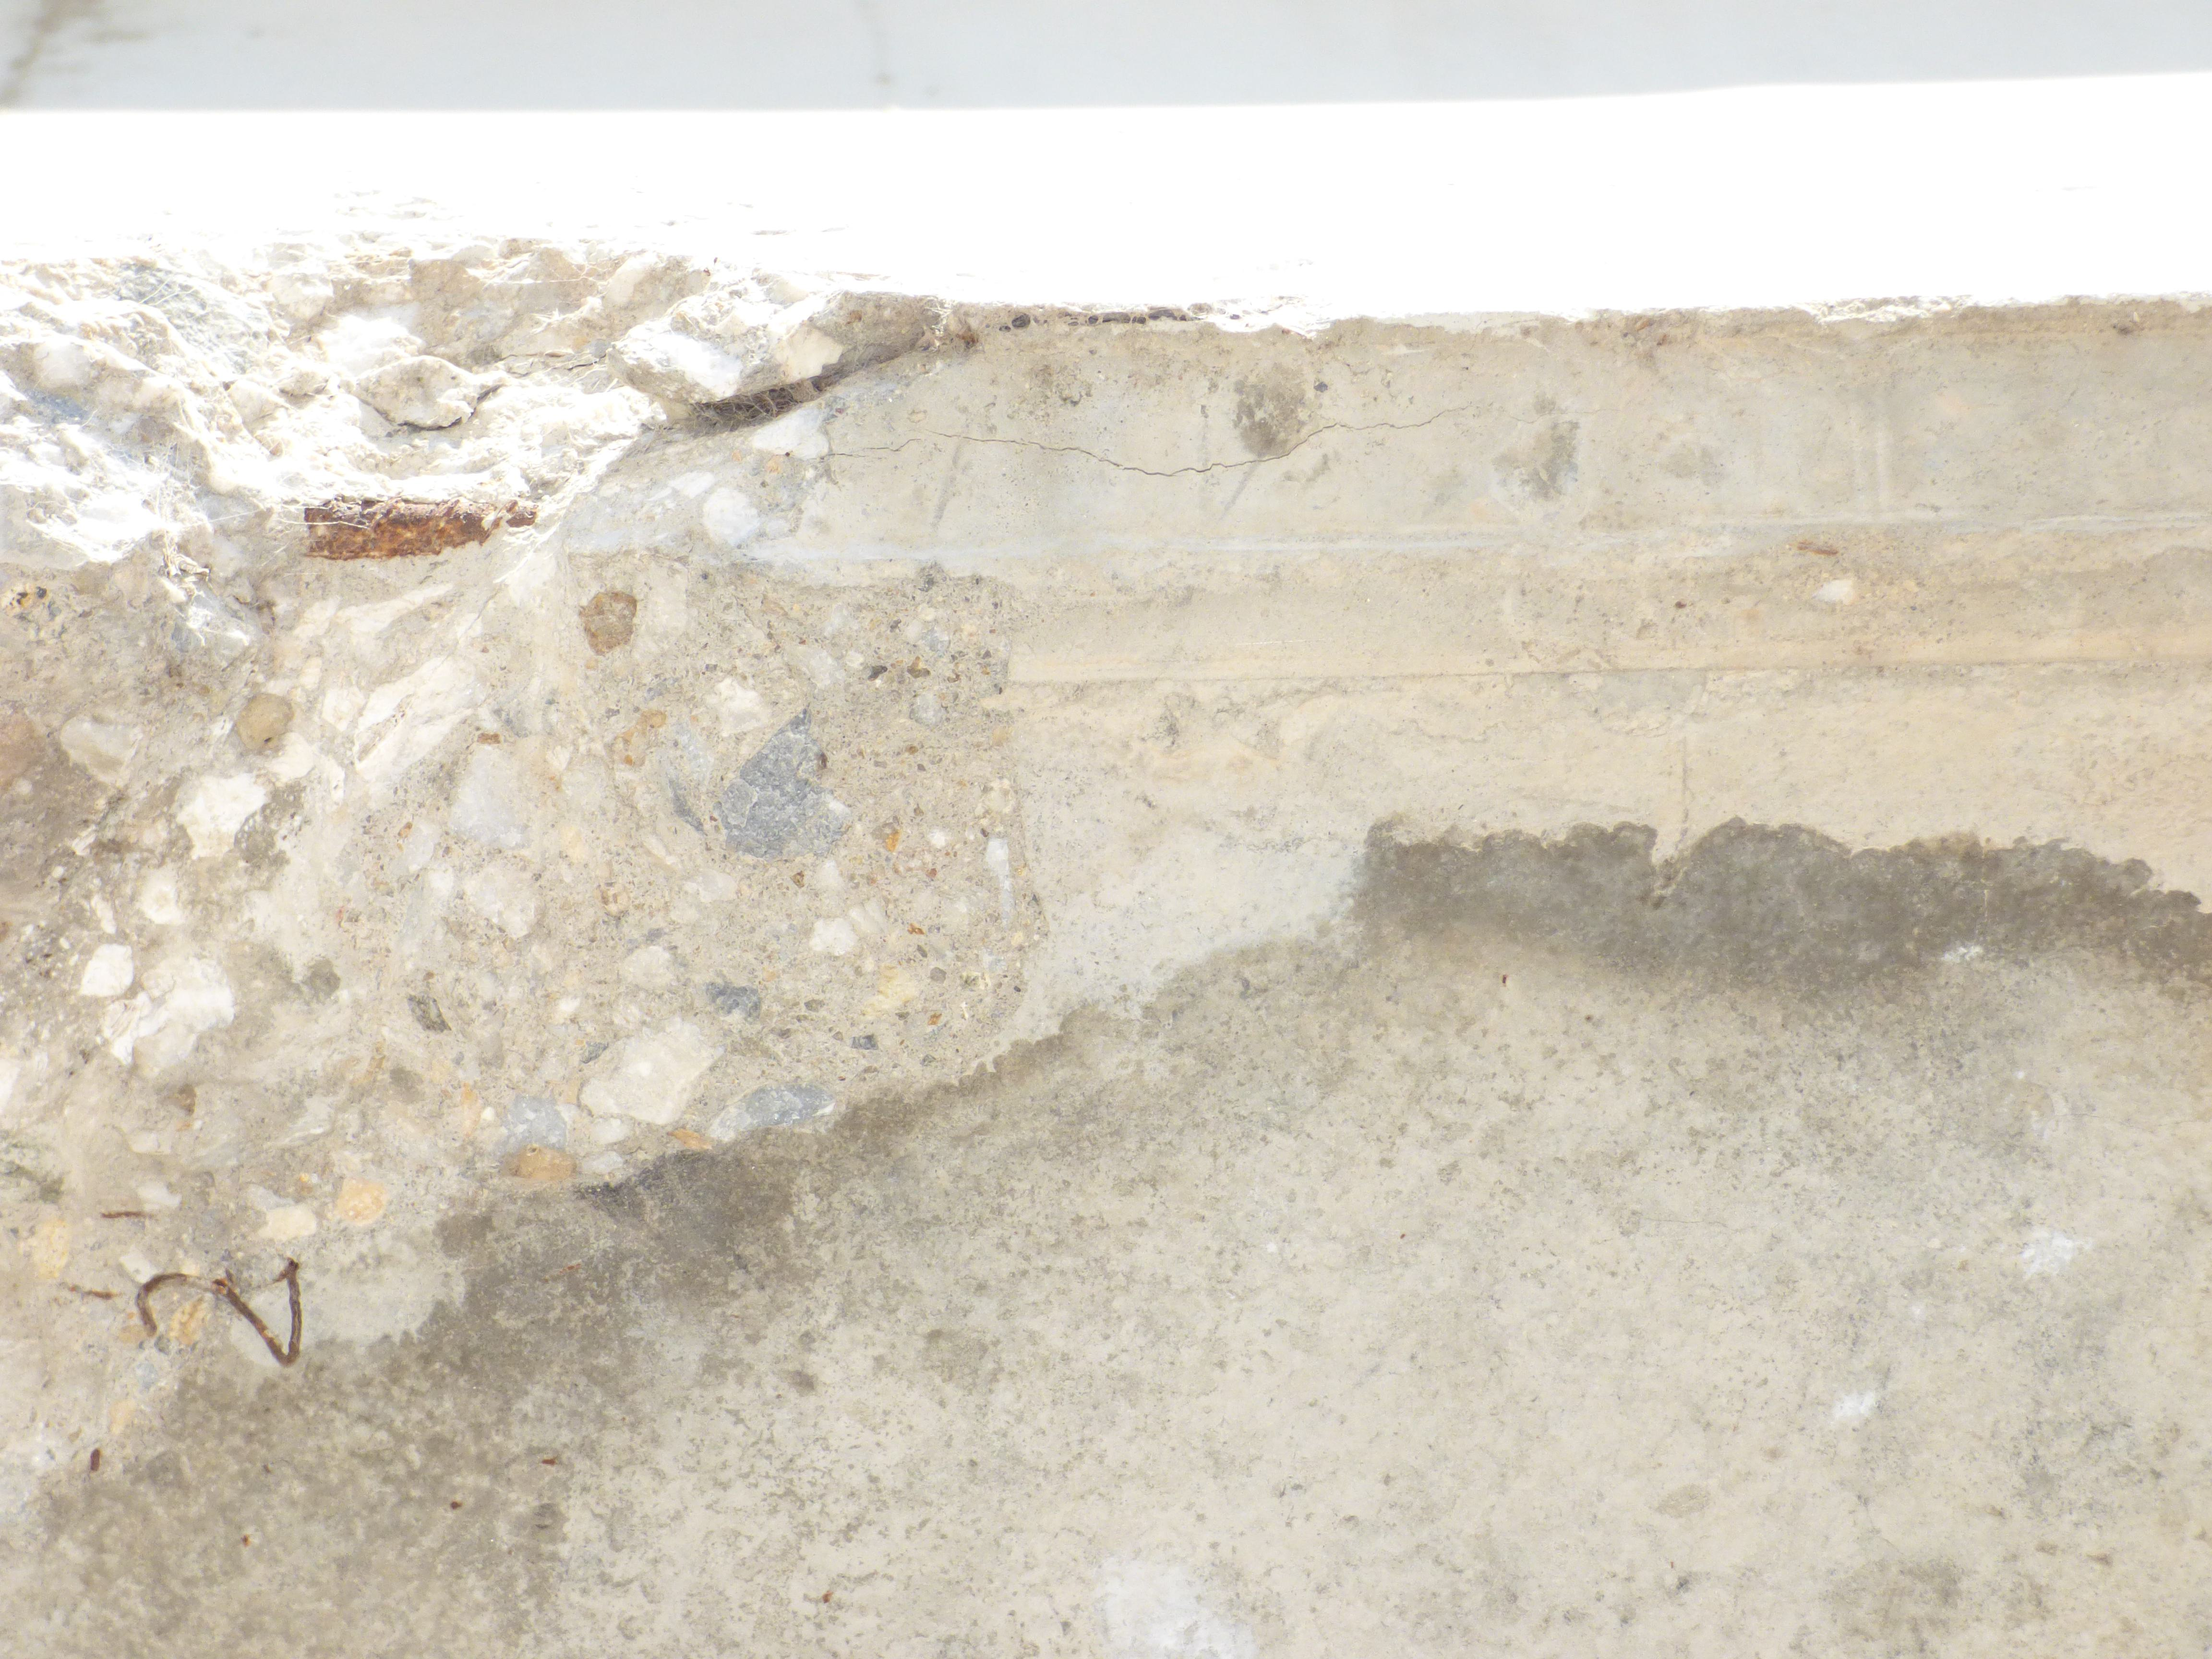Corrosion: (42, 809, 2212, 1659)
Crack: (806, 404, 1472, 477)
Exposed reinforcement: (134, 1258, 303, 1366), (303, 495, 538, 561)
Spalling: (0, 239, 1204, 1258)
